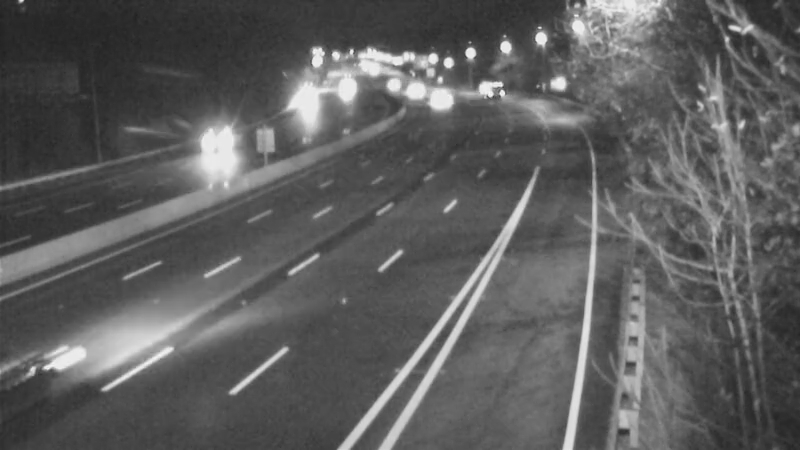vehicle: (370, 60, 420, 110), (461, 63, 511, 113), (390, 63, 440, 113), (417, 75, 467, 125), (198, 120, 248, 170)
